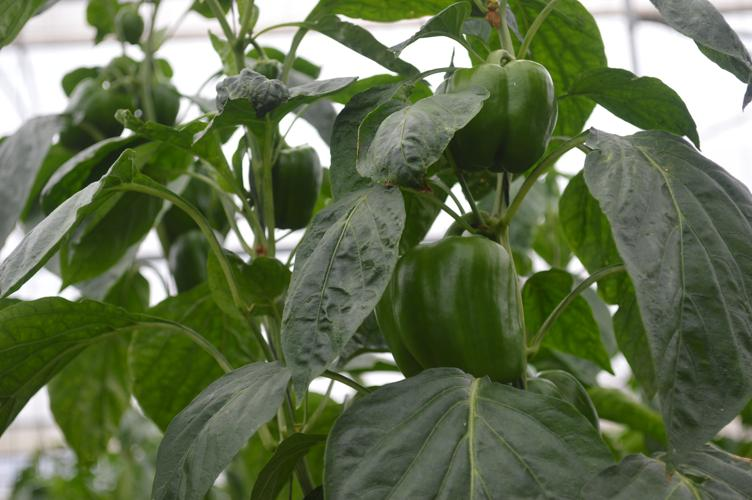BellPepper: (382, 234, 524, 392), (437, 57, 564, 181), (255, 145, 324, 233), (162, 226, 223, 297)
